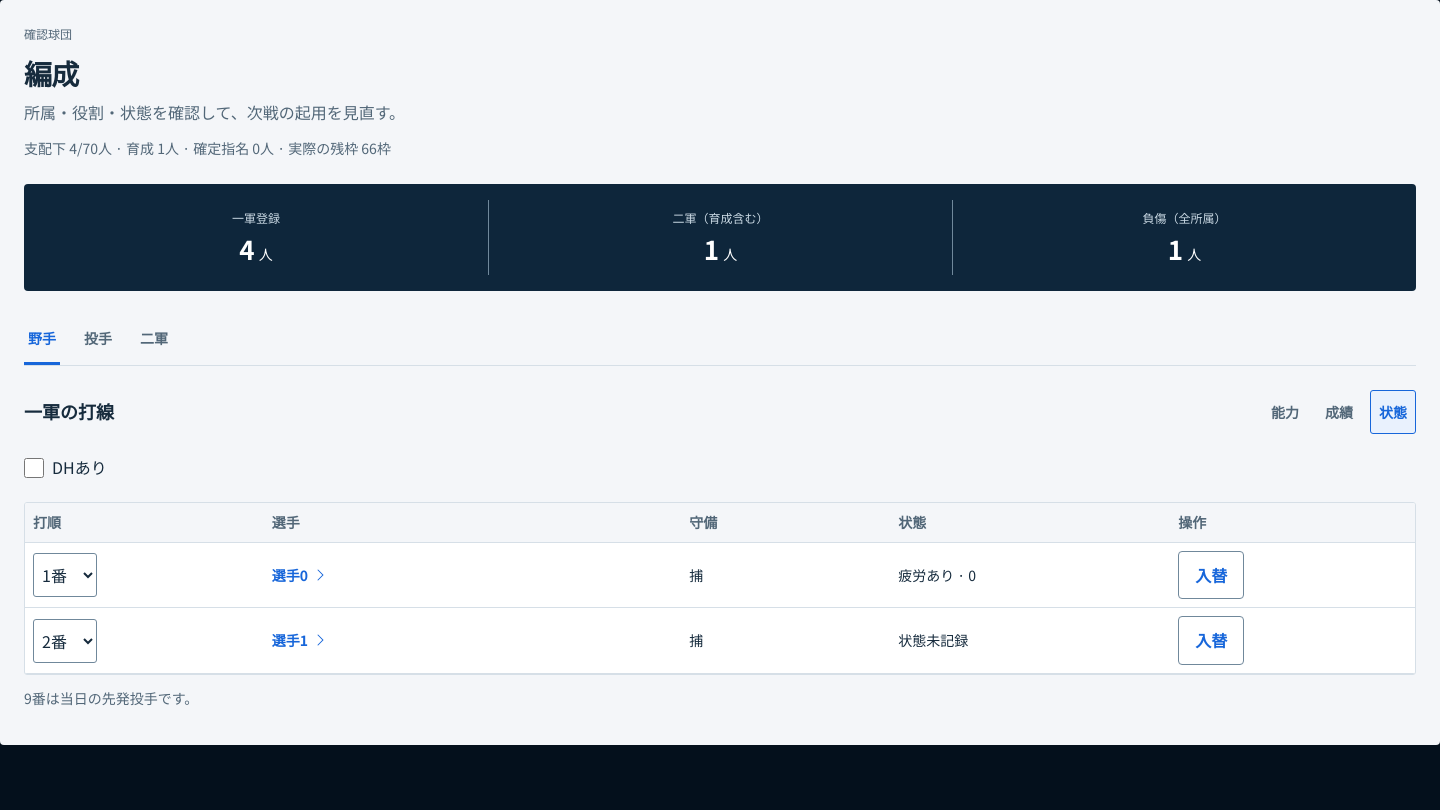
Test: preserves measured zero and identifies missing condition/stats rather than inventing zero
The width and height of the screenshot is (1440, 810).
What coordinates should you click on to do the following:
click the button "成績"
I would click on:
 (1339, 412)
Its box is x1=1316 y1=390 x2=1362 y2=434.
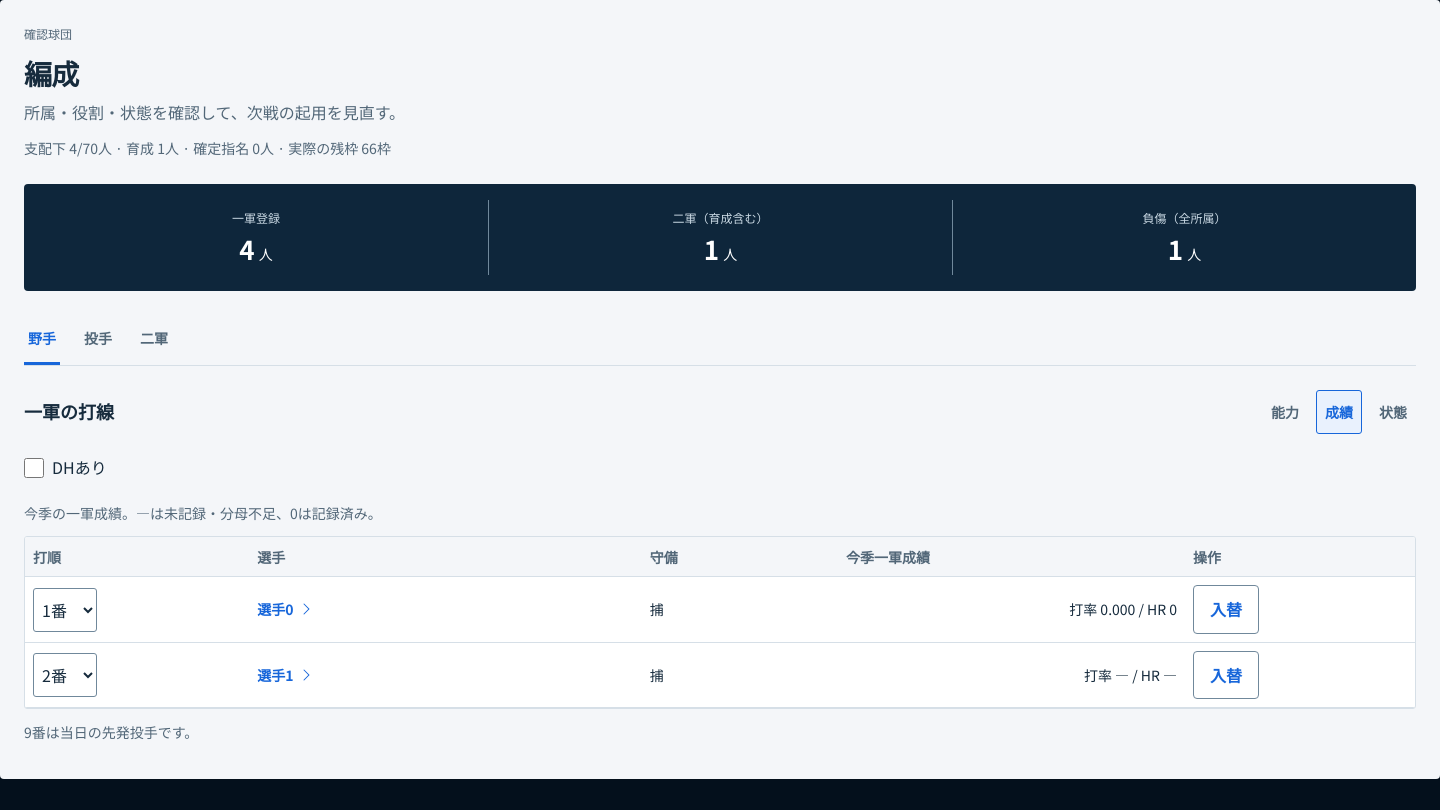
Expected: the text "打率 0.000" is shown, x1=1069 y1=599 x2=1177 y2=619
Expected: the text "HR 0" is shown, x1=1069 y1=599 x2=1177 y2=619
Expected: the text "HR —" is shown, x1=1084 y1=665 x2=1177 y2=685
